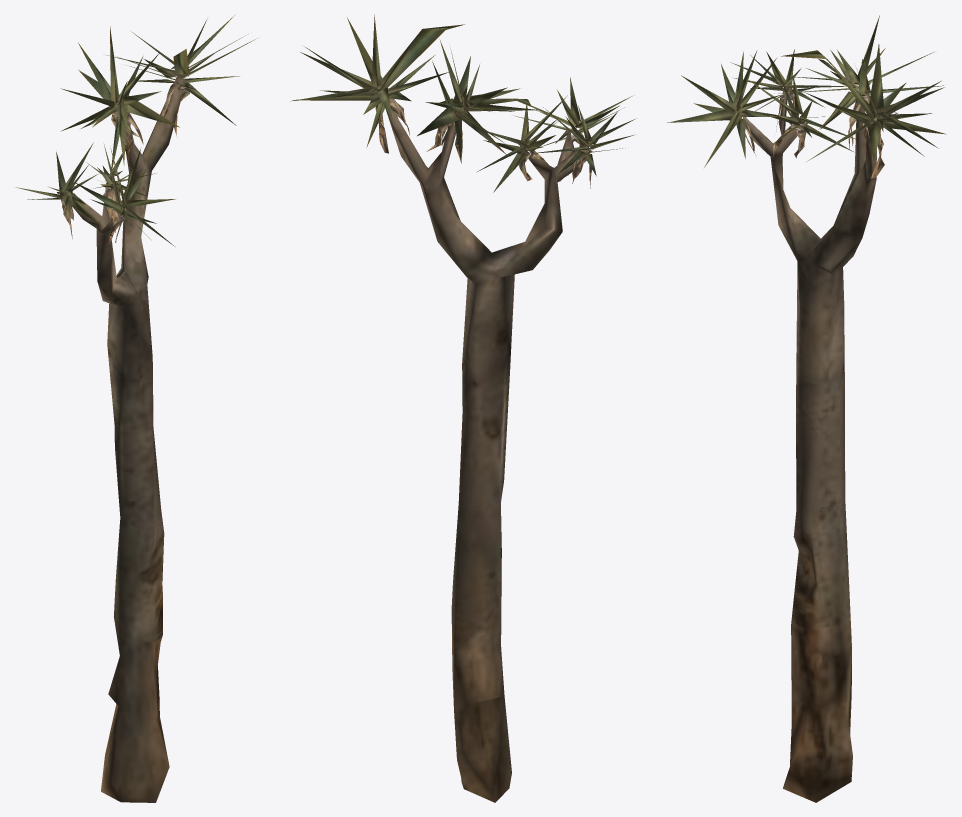
The model's file is quiver_tree_01_far.glb.
3 renders of one model, left to right at view 1: azimuth 30°, elevation 25°; view 2: azimuth 150°, elevation 25°; view 3: azimuth 270°, elevation 25°, orthographic. The views are drawn at different scales.
Visible parts, largest first — view 1: quiver_tree_01; view 2: quiver_tree_01; view 3: quiver_tree_01.
Boxes of the visible parts, x1,y1,x2,y2 form: quiver_tree_01: [16, 14, 257, 802]; quiver_tree_01: [290, 14, 634, 802]; quiver_tree_01: [667, 15, 945, 802].
Bounding box in the file's own units: 1.05 × 2.65 × 0.8667.
Materials: 2 (2 with a texture image).
